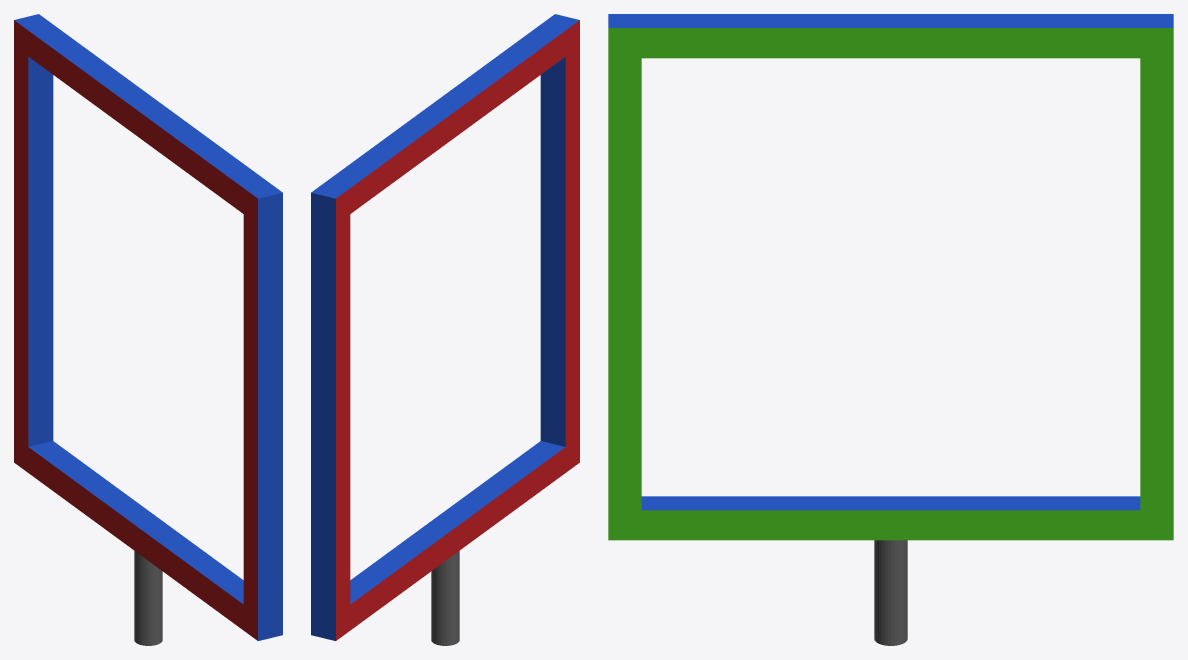
The model's file is frame_1_2.dae.
3 views of the same model, side by side, from view 1: azimuth 30°, elevation 25°; view 2: azimuth 150°, elevation 25°; view 3: azimuth 270°, elevation 25° (orthographic). The views are drawn at different scales.
Parts seen in each view (by area): view 1: Plane; view 2: Plane; view 3: Plane.
Boxes of the visible parts, x1,y1,x2,y2 form: Plane: (14, 14, 282, 645); Plane: (311, 14, 579, 645); Plane: (608, 14, 1173, 645).
Size of the model in its own units: 0.1 by 1.7 by 2.05.
1 material, 1 textured.
